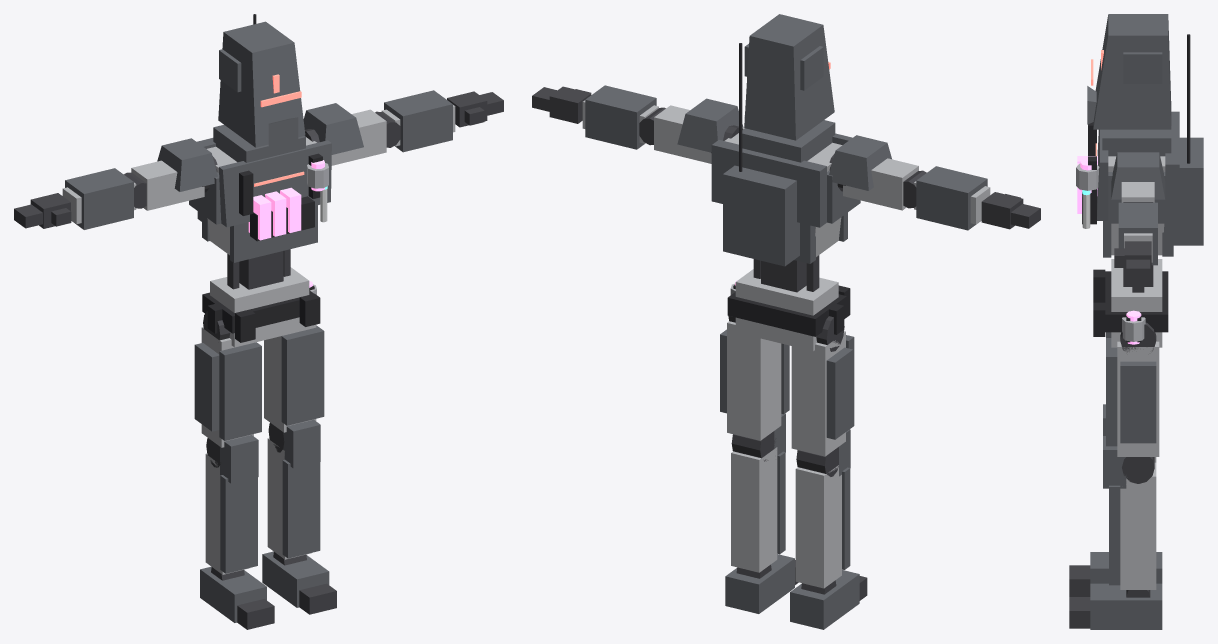
The model's file is char_F2_squad_leader.glb.
3 renders of one model, left to right at view 1: azimuth 30°, elevation 25°; view 2: azimuth 150°, elevation 25°; view 3: azimuth 270°, elevation 25°, orthographic. The views are drawn at different scales.
Parts seen in each view (by area): view 1: Head_mesh, UpperChest_mesh, LeftLowerLeg_mesh, RightLowerLeg_mesh, RightUpperLeg_mesh, Hips_mesh, LeftUpperLeg_mesh, RightUpperArm_mesh, RightLowerArm_mesh, LeftLowerArm_mesh, LeftUpperArm_mesh, Chest_mesh (+9 smaller); view 2: UpperChest_mesh, Head_mesh, RightLowerLeg_mesh, LeftLowerLeg_mesh, RightUpperLeg_mesh, LeftUpperLeg_mesh, Hips_mesh, RightUpperArm_mesh, RightLowerArm_mesh, LeftLowerArm_mesh, LeftUpperArm_mesh, LeftFoot_mesh (+5 smaller); view 3: Head_mesh, UpperChest_mesh, LeftLowerLeg_mesh, LeftUpperLeg_mesh, Hips_mesh, LeftFoot_mesh, LeftUpperArm_mesh, LeftLowerArm_mesh, LeftHand_mesh, Chest_mesh, RightFoot_mesh, LeftToes_mesh (+5 smaller).
Part boxes in pixels (x1=…): Head_mesh: x1=218, y1=21, x2=305, y2=147; UpperChest_mesh: x1=189, y1=14, x2=331, y2=241; LeftLowerLeg_mesh: x1=267, y1=419, x2=320, y2=559; RightLowerLeg_mesh: x1=205, y1=435, x2=258, y2=574; RightUpperLeg_mesh: x1=194, y1=311, x2=261, y2=447; Hips_mesh: x1=202, y1=267, x2=320, y2=347; LeftUpperLeg_mesh: x1=264, y1=324, x2=324, y2=432; RightUpperArm_mesh: x1=131, y1=138, x2=217, y2=210; RightLowerArm_mesh: x1=62, y1=168, x2=146, y2=229; LeftLowerArm_mesh: x1=375, y1=90, x2=455, y2=152; LeftUpperArm_mesh: x1=303, y1=103, x2=386, y2=165; Chest_mesh: x1=202, y1=205, x2=317, y2=262; UpperChest_mesh: x1=711, y1=43, x2=860, y2=266; Head_mesh: x1=744, y1=14, x2=834, y2=140; RightLowerLeg_mesh: x1=795, y1=429, x2=850, y2=588; LeftLowerLeg_mesh: x1=731, y1=413, x2=785, y2=572; RightUpperLeg_mesh: x1=791, y1=316, x2=854, y2=456; LeftUpperLeg_mesh: x1=720, y1=316, x2=789, y2=440; Hips_mesh: x1=727, y1=269, x2=850, y2=351; RightUpperArm_mesh: x1=829, y1=135, x2=918, y2=210; RightLowerArm_mesh: x1=903, y1=166, x2=990, y2=230; LeftLowerArm_mesh: x1=582, y1=85, x2=665, y2=149; LeftUpperArm_mesh: x1=654, y1=98, x2=743, y2=163; LeftFoot_mesh: x1=725, y1=554, x2=794, y2=613; Head_mesh: x1=1087, y1=14, x2=1171, y2=129; UpperChest_mesh: x1=1082, y1=34, x2=1203, y2=245; LeftLowerLeg_mesh: x1=1103, y1=436, x2=1156, y2=589; LeftUpperLeg_mesh: x1=1106, y1=322, x2=1159, y2=456; Hips_mesh: x1=1093, y1=259, x2=1168, y2=347; LeftFoot_mesh: x1=1090, y1=583, x2=1162, y2=629; LeftUpperArm_mesh: x1=1111, y1=152, x2=1165, y2=202; LeftLowerArm_mesh: x1=1118, y1=202, x2=1157, y2=265; LeftHand_mesh: x1=1114, y1=241, x2=1151, y2=280; Chest_mesh: x1=1103, y1=221, x2=1173, y2=257; RightFoot_mesh: x1=1090, y1=552, x2=1162, y2=583; LeftToes_mesh: x1=1069, y1=597, x2=1090, y2=628.
Bounding box in the file's own units: 1.69 × 1.88 × 0.3942.
